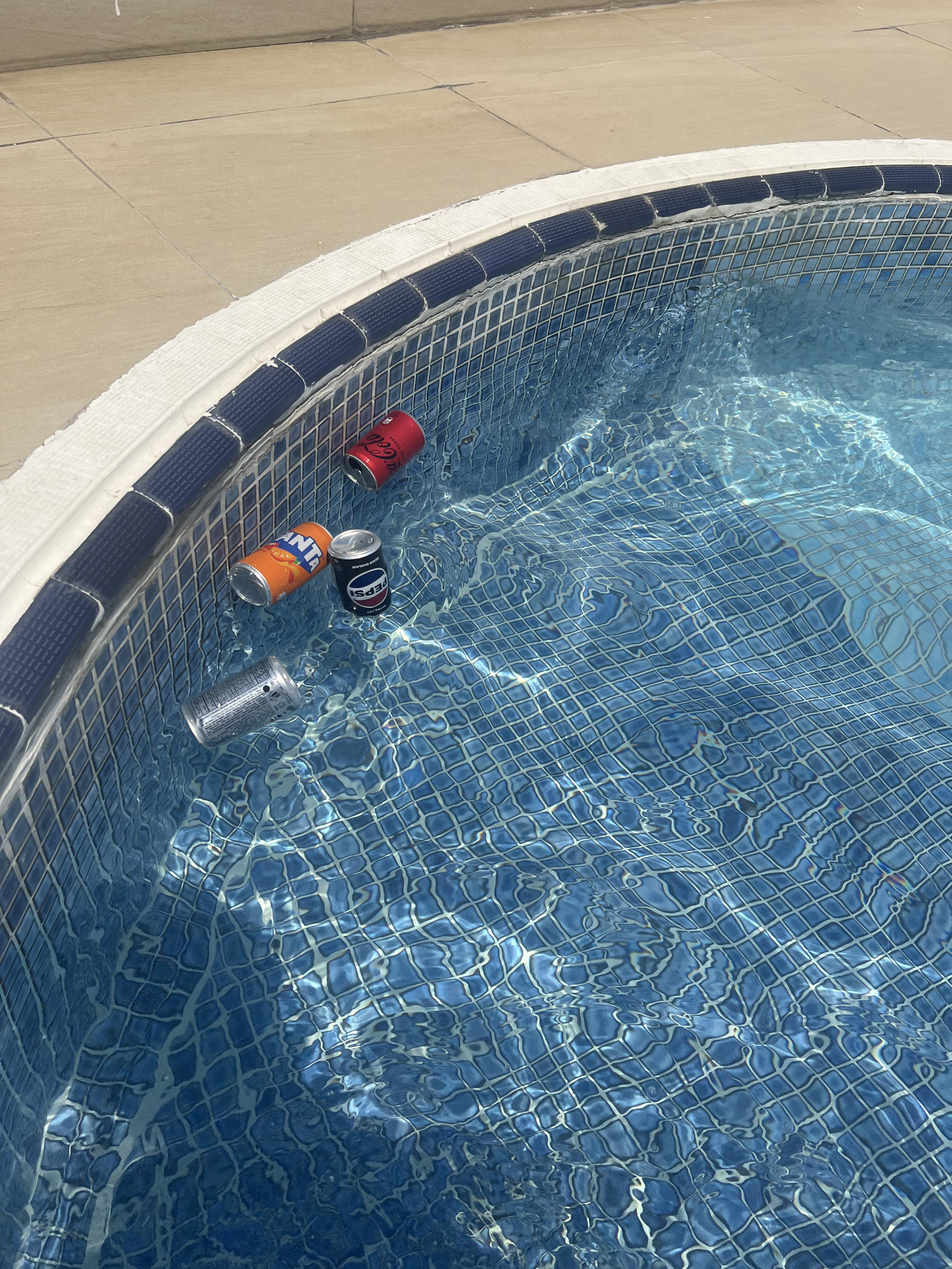debris: (178, 629, 296, 768), (224, 513, 334, 616), (335, 399, 427, 504), (323, 513, 395, 619)
